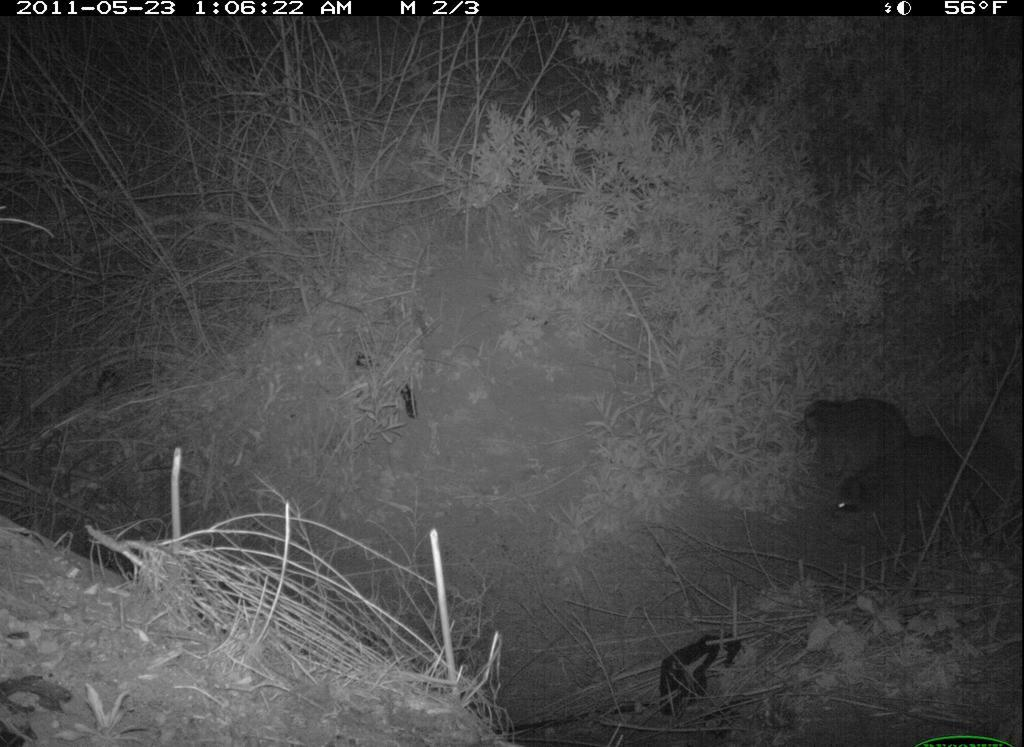raccoon: (795, 369, 1001, 545)
